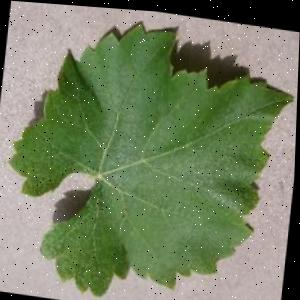Folha: (0, 1, 300, 300)
